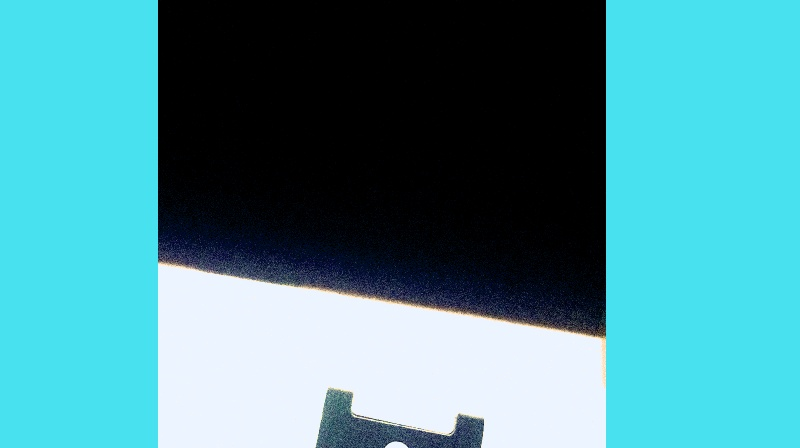O002: (303, 385, 488, 447)
